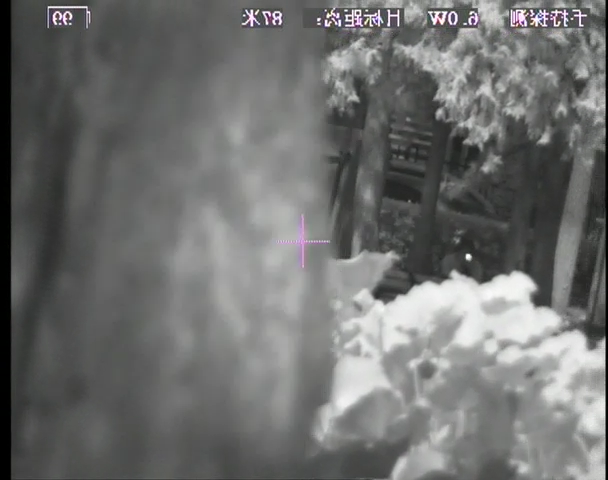my: (464, 252, 473, 263)
